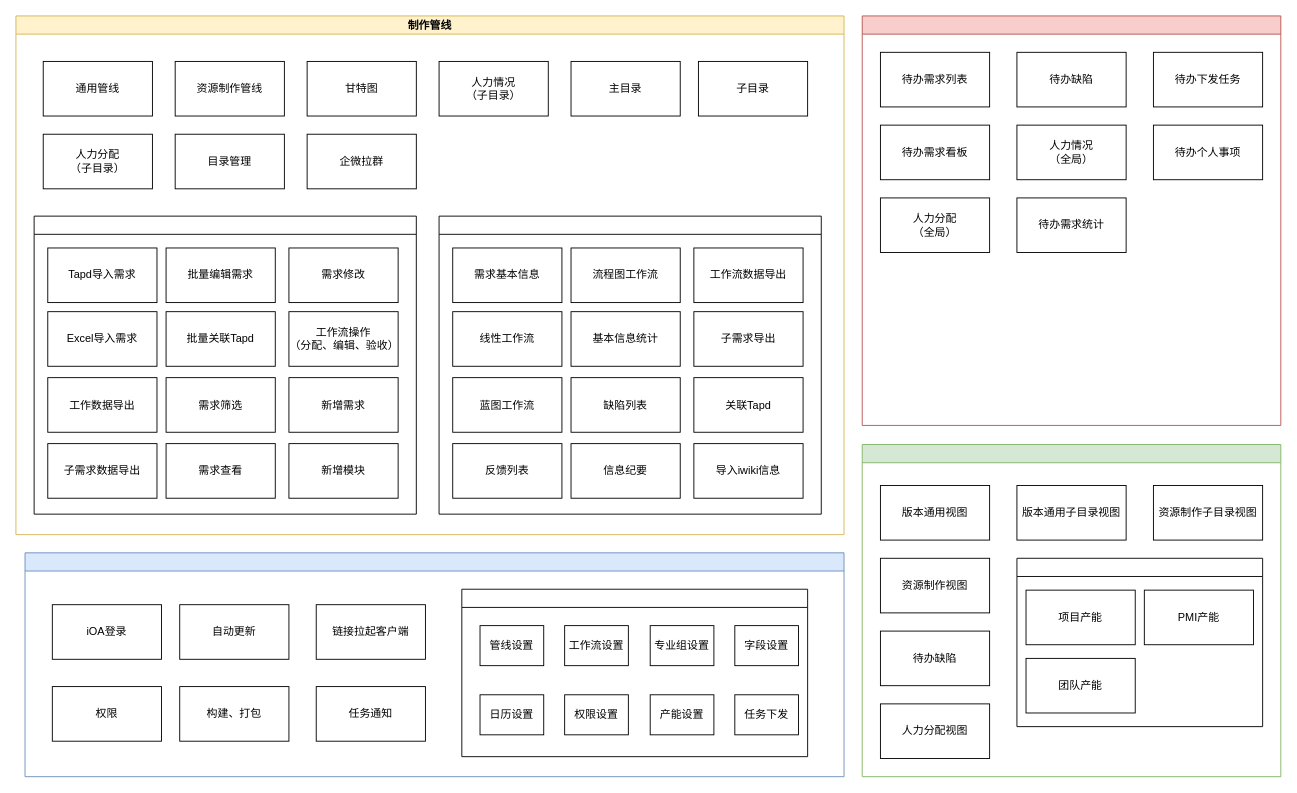
The diagram is 1297 pixels wide and 793 high, and some of its shapes have lost their labels. The shapes that lost their labels are listed below. From the top down, each one's box as (x1, y1, x2, y2) in pixels, then its label:
(861, 15, 1281, 425): 个人工作区
(33, 215, 416, 514): 需求列表
(438, 215, 821, 514): 需求详情页
(861, 444, 1281, 777): 视图
(1016, 557, 1263, 727): 产能盘点
(24, 552, 844, 777): 基础功能
(461, 588, 808, 757): 设置
